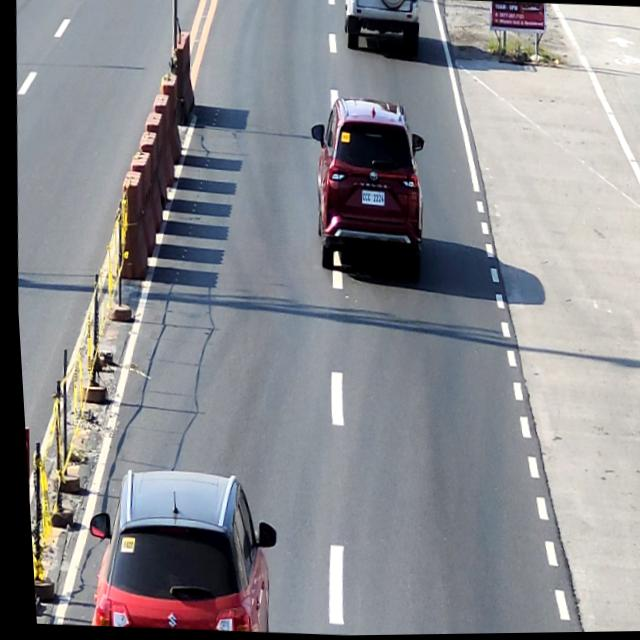Car: (75, 467, 277, 636), (300, 95, 432, 290), (341, 0, 423, 55)
License-Plate: (359, 191, 383, 208)
